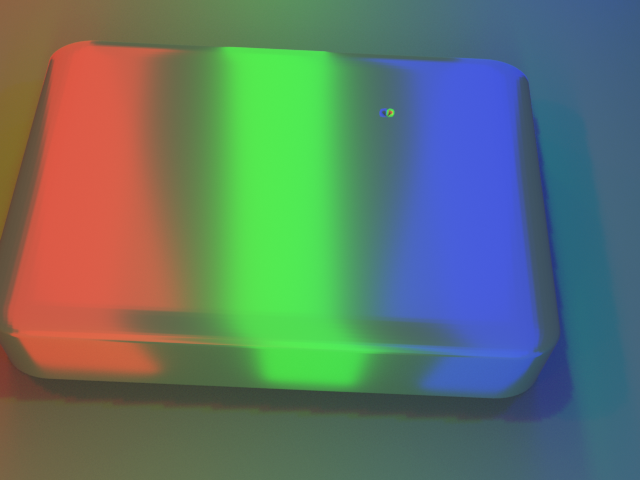dent: (374, 83, 410, 123)
